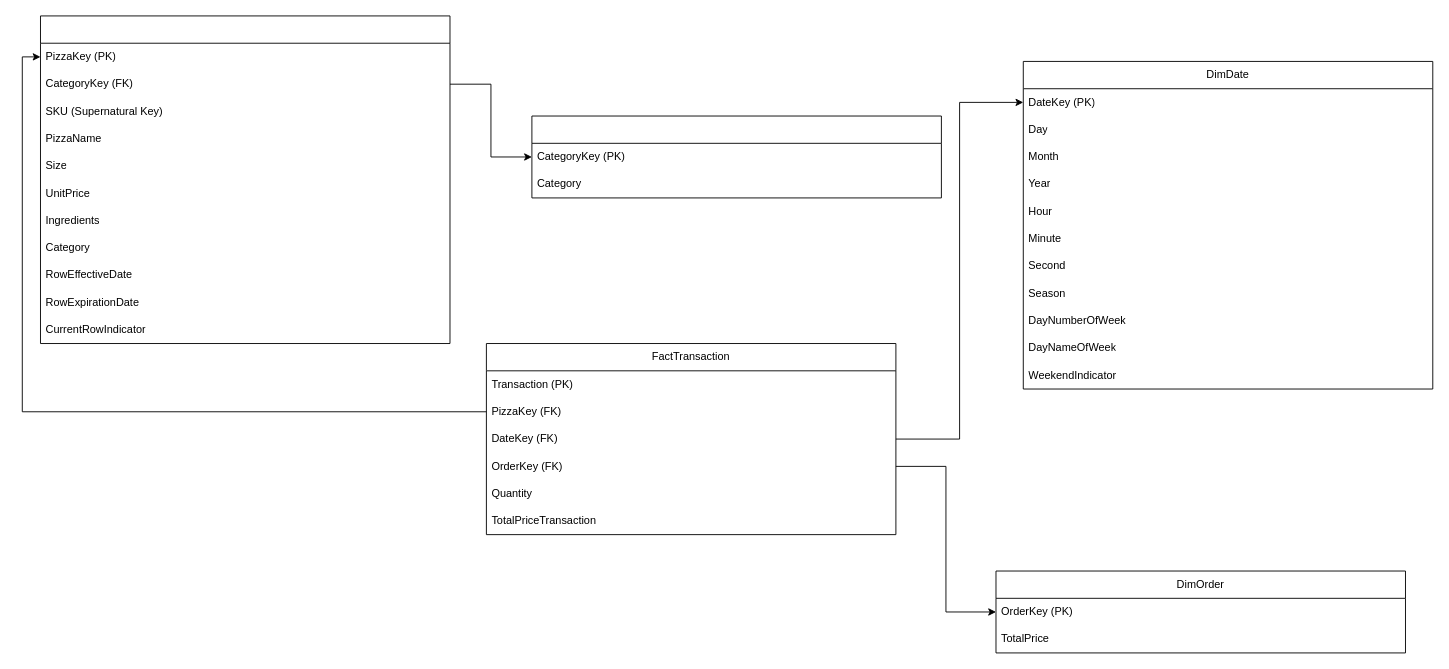
The diagram is 1449 pixels wide and 669 high, and some of its shapes have lost their labels. Each missing label, with the box of its shape:
DimCategory: (531, 115, 941, 198)
DimPizza (SCD Type 2): (40, 15, 450, 344)
